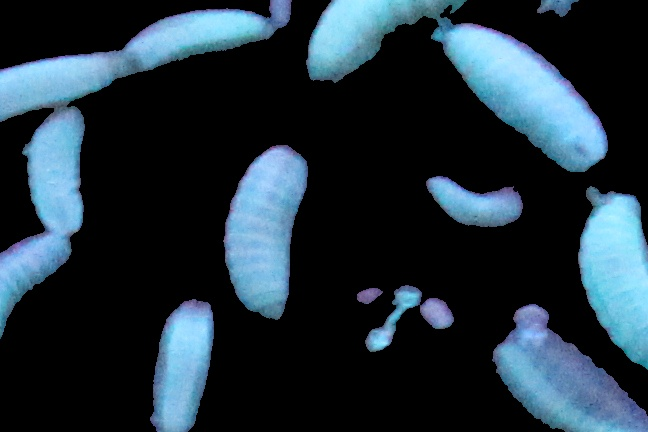larvae: (447, 27, 605, 172), (226, 143, 313, 328), (299, 1, 475, 87), (495, 333, 648, 431), (575, 188, 648, 368), (149, 293, 220, 432), (125, 12, 275, 76), (1, 41, 120, 117), (1, 235, 75, 341), (28, 108, 87, 235), (424, 175, 523, 229)
